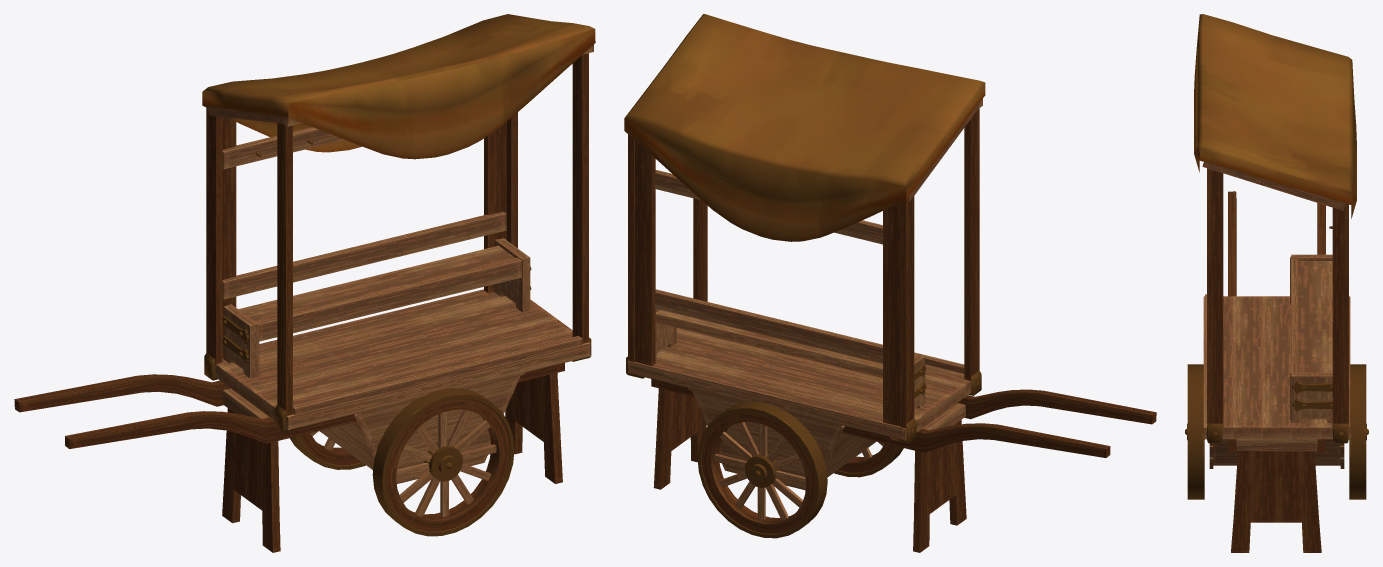
The model's file is prop_stall.glb.
The picture shows the model from 3 angles, left to right: view 1: azimuth 30°, elevation 25°; view 2: azimuth 150°, elevation 25°; view 3: azimuth 270°, elevation 25°; orthographic projection. The views are drawn at different scales.
Parts seen in each view (by area): view 1: Stall_Cart_Empty; view 2: Stall_Cart_Empty; view 3: Stall_Cart_Empty.
Part boxes in pixels (<box>): Stall_Cart_Empty: <box>14,14,595,552</box>; Stall_Cart_Empty: <box>624,14,1156,552</box>; Stall_Cart_Empty: <box>1185,14,1368,552</box>.
Bounding box in the file's own units: 3.02 × 2.63 × 1.06.
3 materials, 3 textured.
